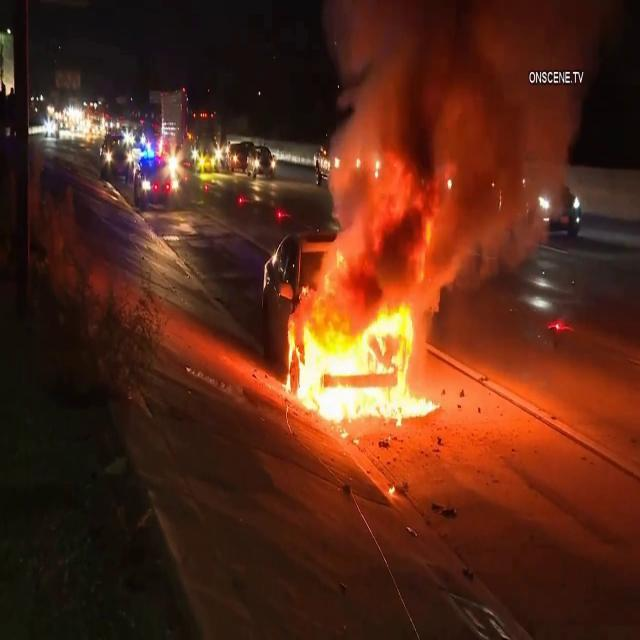Fire: (282, 296, 421, 434)
Smoke: (304, 0, 588, 287)
